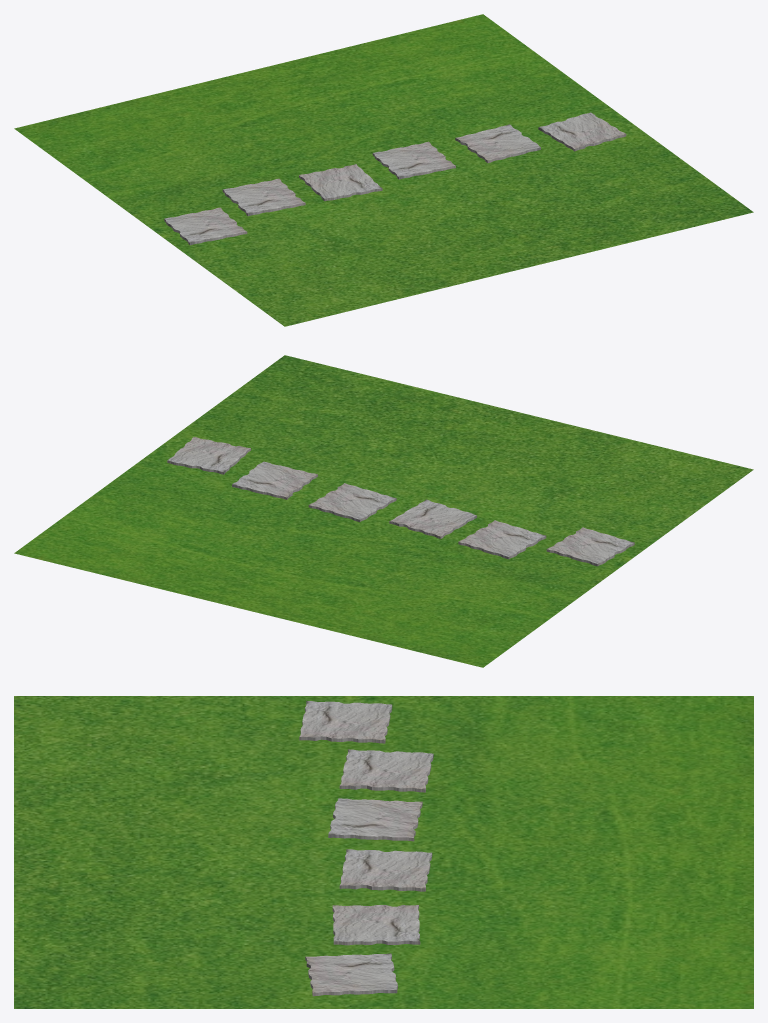
File: pathLR.glb
The picture shows the model from 3 angles, top to bottom: view 1: azimuth 30°, elevation 25°; view 2: azimuth 150°, elevation 25°; view 3: azimuth 270°, elevation 25°; orthographic projection. The views are drawn at different scales.
Visible parts, largest first — view 1: Plane, Plane.007, Plane.006, Plane.005, Plane.003, Plane.001, Plane.004; view 2: Plane, Plane.005, Plane.001, Plane.003, Plane.004, Plane.006, Plane.007; view 3: Plane, Plane.004, Plane.007, Plane.003, Plane.001, Plane.005, Plane.006.
Boxes of the visible parts, left/top/right/bottom form: Plane: left=14, top=14, right=753, bottom=326; Plane.007: left=538, top=112, right=626, bottom=151; Plane.006: left=455, top=124, right=540, bottom=162; Plane.005: left=372, top=141, right=455, bottom=179; Plane.003: left=222, top=178, right=305, bottom=216; Plane.001: left=164, top=207, right=247, bottom=245; Plane.004: left=299, top=164, right=382, bottom=201; Plane: left=14, top=355, right=753, bottom=667; Plane.005: left=308, top=483, right=396, bottom=522; Plane.001: left=546, top=527, right=634, bottom=566; Plane.003: left=458, top=520, right=546, bottom=559; Plane.004: left=389, top=499, right=476, bottom=538; Plane.006: left=232, top=461, right=317, bottom=499; Plane.007: left=167, top=437, right=250, bottom=474; Plane: left=14, top=696, right=753, bottom=1008; Plane.004: left=328, top=798, right=422, bottom=841; Plane.007: left=305, top=953, right=397, bottom=996; Plane.003: left=339, top=749, right=433, bottom=792; Plane.001: left=299, top=700, right=392, bottom=743; Plane.005: left=339, top=849, right=432, bottom=891; Plane.006: left=332, top=905, right=420, bottom=945.
Size of the model in its own units: 2 by 0.0123 by 2.
2 materials, 2 textured.
